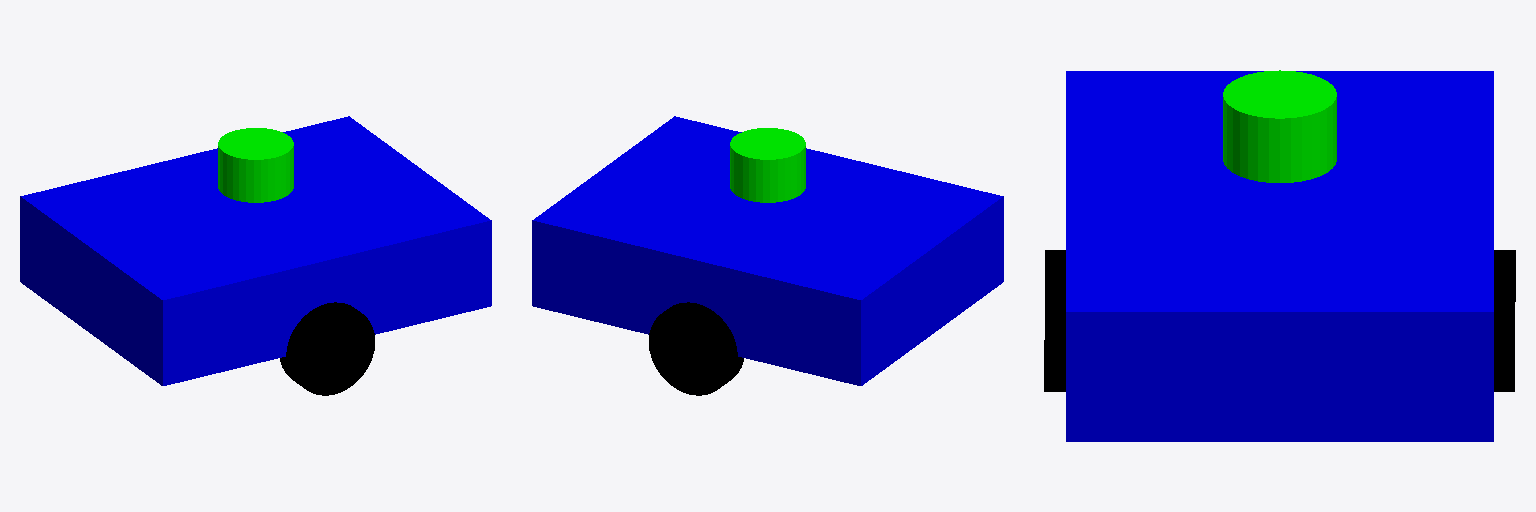
URDF robot description (custom_robot):
<?xml version="1.0"?>

<robot name="custom_robot">

  <!-- Base -->
  <link name="base_link">
    <visual>
      <geometry>
        <box size="0.4 0.3 0.1"/>
      </geometry>
      <material name="blue">
        <color rgba="0 0 1 1"/>
      </material>
    </visual>
  </link>

  <!-- Left Wheel -->
  <link name="left_wheel">
    <visual>
      <geometry>
        <cylinder radius="0.05" length="0.03"/>
      </geometry>
      <material name="black">
        <color rgba="0 0 0 1"/>
      </material>
    </visual>
  </link>

  <!-- Right Wheel -->
  <link name="right_wheel">
    <visual>
      <geometry>
        <cylinder radius="0.05" length="0.03"/>
      </geometry>
      <material name="black">
        <color rgba="0 0 0 1"/>
      </material>
    </visual>
  </link>

  <!-- LiDAR -->
  <link name="lidar">
    <visual>
      <geometry>
        <cylinder radius="0.04" length="0.05"/>
      </geometry>
      <material name="green">
        <color rgba="0 1 0 1"/>
      </material>
    </visual>
  </link>

  <!-- Joints -->

  <joint name="left_wheel_joint" type="continuous">
    <parent link="base_link"/>
    <child link="left_wheel"/>
    <origin xyz="0 0.15 -0.05" rpy="1.57 0 0"/>
  </joint>

  <joint name="right_wheel_joint" type="continuous">
    <parent link="base_link"/>
    <child link="right_wheel"/>
    <origin xyz="0 -0.15 -0.05" rpy="1.57 0 0"/>
  </joint>

  <joint name="lidar_joint" type="fixed">
    <parent link="base_link"/>
    <child link="lidar"/>
    <origin xyz="0 0 0.1" rpy="0 0 0"/>
  </joint>

</robot>

--- Render facts (derived) ---
The picture shows the robot from 3 angles, left to right: view 1: azimuth 30°, elevation 25°; view 2: azimuth 150°, elevation 25°; view 3: azimuth 270°, elevation 25°; orthographic projection.
Model custom_robot with 4 links and 3 joints (2 continuous, 1 fixed), rooted at base_link, posed all joints at 0.
Visible links, largest first — view 1: base_link, right_wheel, lidar; view 2: base_link, left_wheel, lidar; view 3: base_link, lidar, left_wheel, right_wheel.
Boxes of the visible links, x1=… form: base_link: x1=20, y1=116, x2=491, y2=385; right_wheel: x1=280, y1=302, x2=374, y2=395; lidar: x1=218, y1=128, x2=293, y2=202; base_link: x1=532, y1=116, x2=1003, y2=385; left_wheel: x1=649, y1=302, x2=743, y2=395; lidar: x1=730, y1=128, x2=805, y2=202; base_link: x1=1066, y1=71, x2=1493, y2=441; lidar: x1=1223, y1=70, x2=1336, y2=182; left_wheel: x1=1494, y1=250, x2=1515, y2=391; right_wheel: x1=1044, y1=250, x2=1065, y2=391.
Size in the robot's own frame: 0.4 by 0.3301 by 0.225 metres.
Geometry: primitives only (box / cylinder / sphere), no mesh files.
